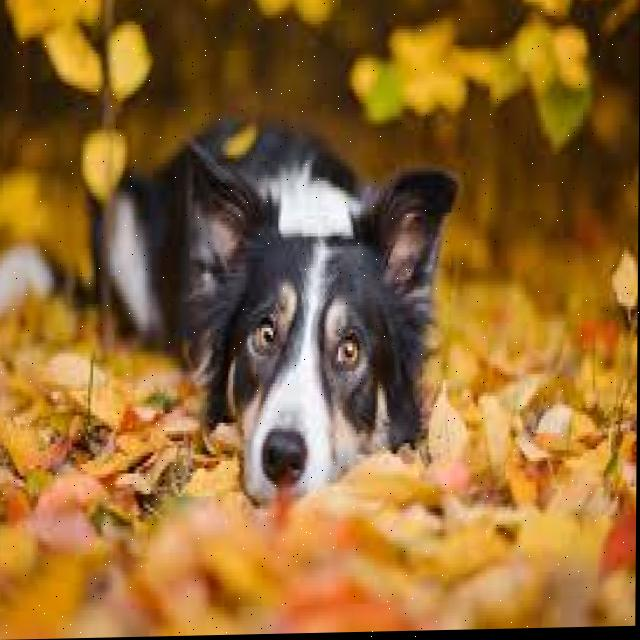BORDER_COLLIE: (0, 68, 470, 516)
